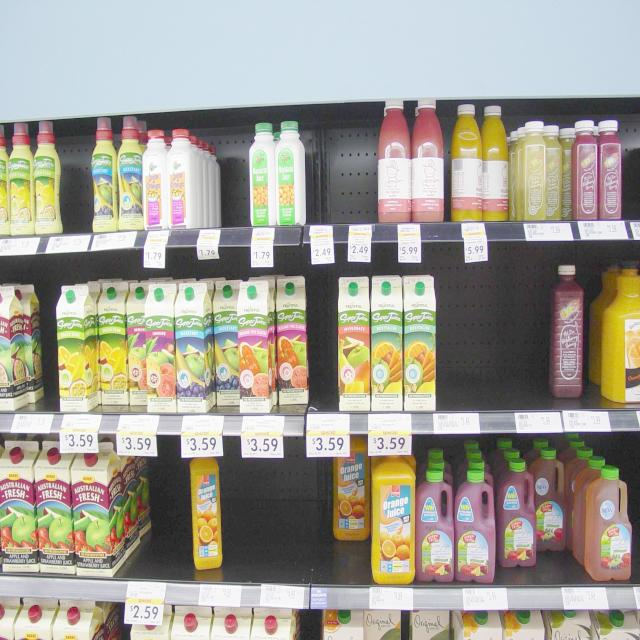empty_space: (444, 272, 536, 403), (231, 479, 331, 573), (312, 122, 364, 218), (141, 478, 188, 570), (211, 125, 249, 219), (62, 128, 89, 216), (40, 283, 56, 405)
